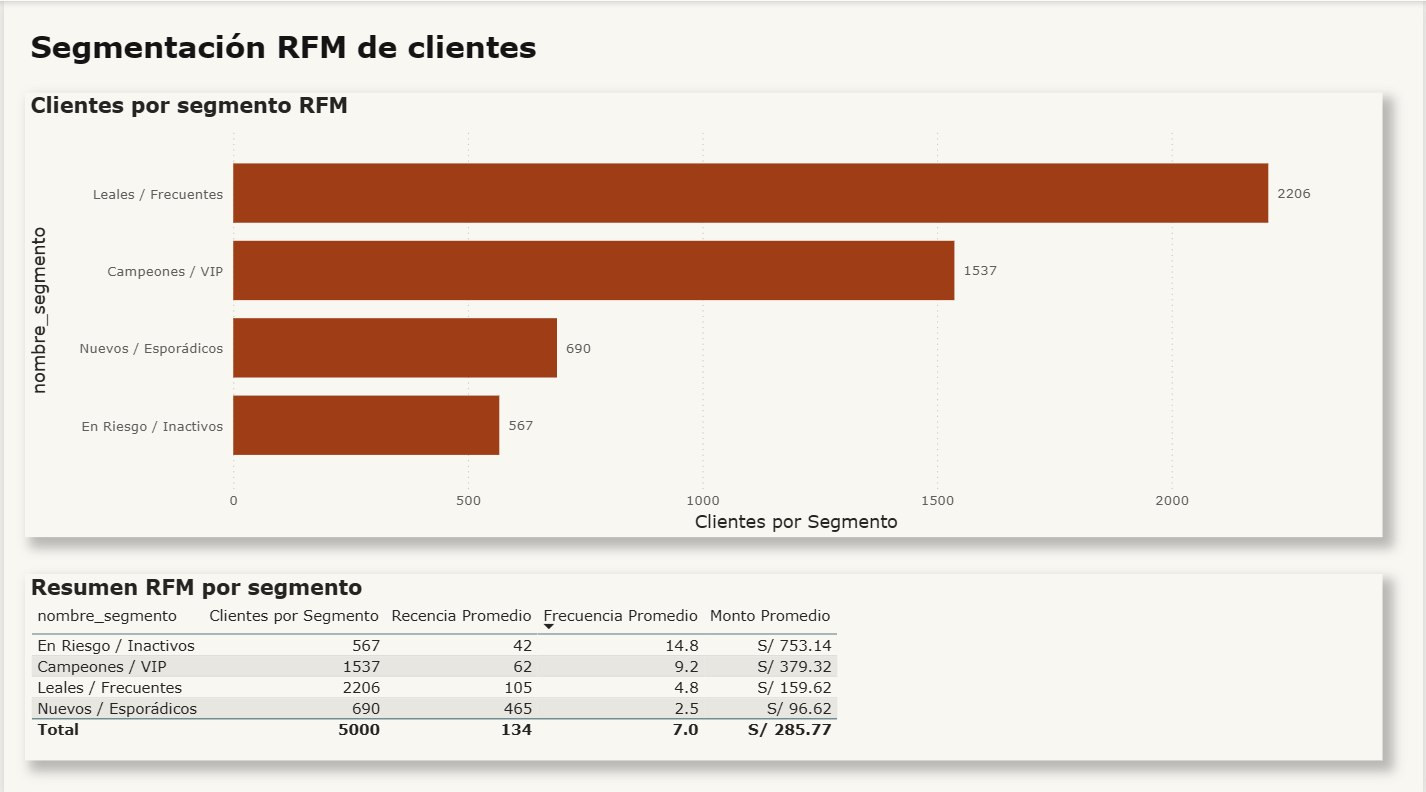

This screenshot's page, from the dashboard's own definition file:
{"tool":"powerbi","page":{"name":"06 Segmentacion Clientes","canvas":[1280,720],"ordinal":5},"visuals":[{"type":"clusteredBarChart","title":"Clientes por segmento RFM","fields":{"Category":["segmentos_clientes.nombre_segmento"],"Y":["segmentos_clientes.Clientes por Segmento"]},"box":[19.3,82.6,1223.1,400.8],"z":0},{"type":"tableEx","title":"Resumen RFM por segmento","fields":{"Values":["segmentos_clientes.nombre_segmento","segmentos_clientes.Clientes por Segmento","segmentos_clientes.Recencia Promedio","segmentos_clientes.Frecuencia Promedio","segmentos_clientes.Monto Promedio"]},"box":[19.3,516.5,1223.1,168],"z":1000},{"type":"textbox","box":[19.5,19.5,644.1,46],"z":2000}]}

Visuals, with their boxes in screenshot pixels (x1, y1, x2, y2), scaled from the page's 1280x720 canvas onto the 1426x792 screenshot:
"Clientes por segmento RFM" clusteredBarChart: (22, 91, 1384, 532)
"Resumen RFM por segmento" tableEx: (22, 568, 1384, 753)
textbox: (22, 21, 739, 72)
